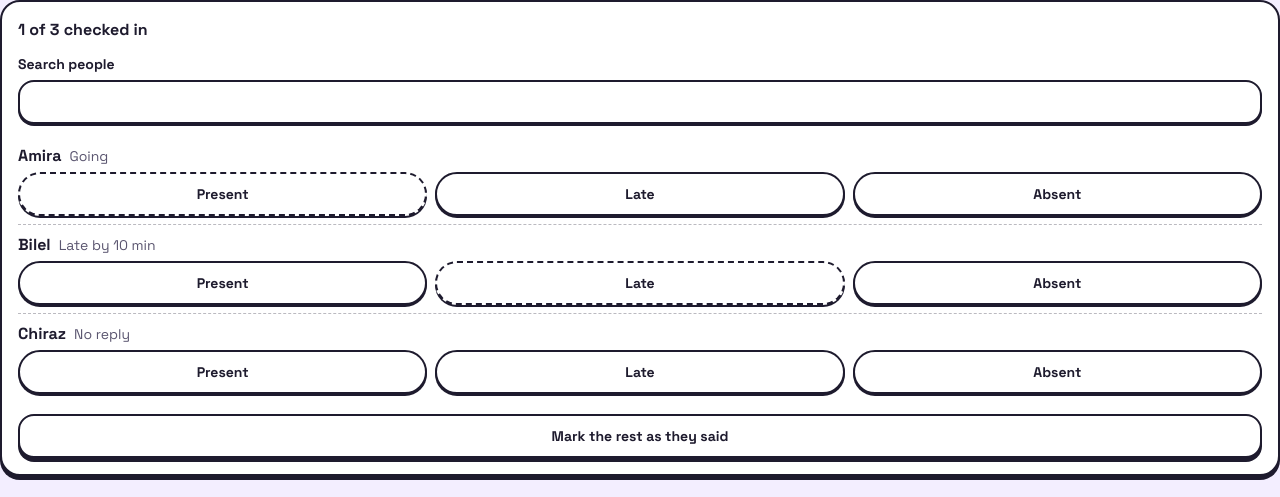
Test case: CheckInList › searches people by name
expect the link "Amira" is shown: met, box [18, 144, 62, 168]
Type "chi" into the search field labelled "Search people". click: (640, 102)
box: [18, 80, 1262, 124]
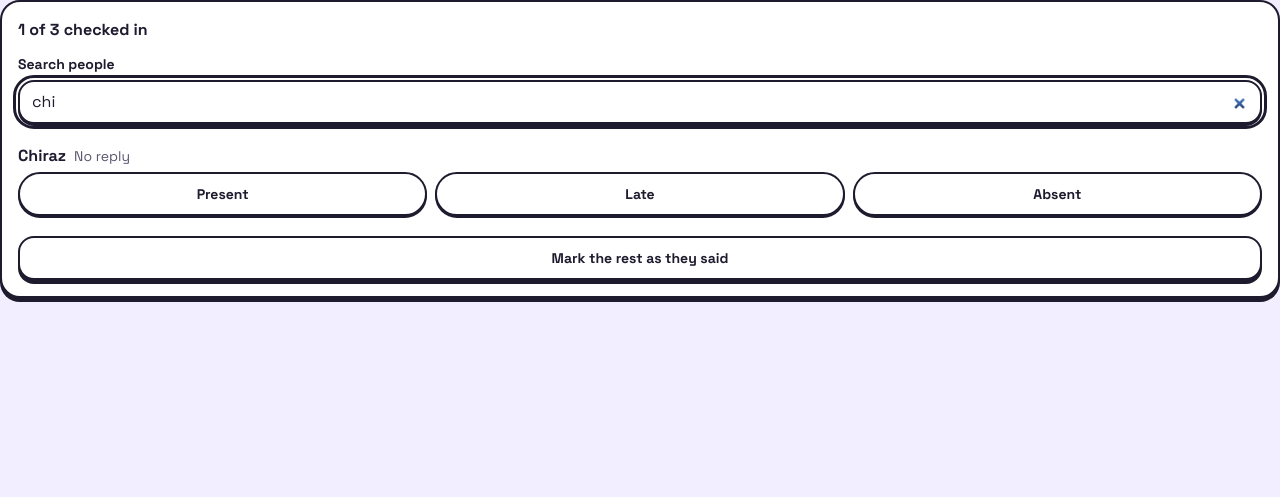
expect the link "Chiraz" is shown: met, box [18, 144, 66, 168]
expect the link "Amira" is gone: met
